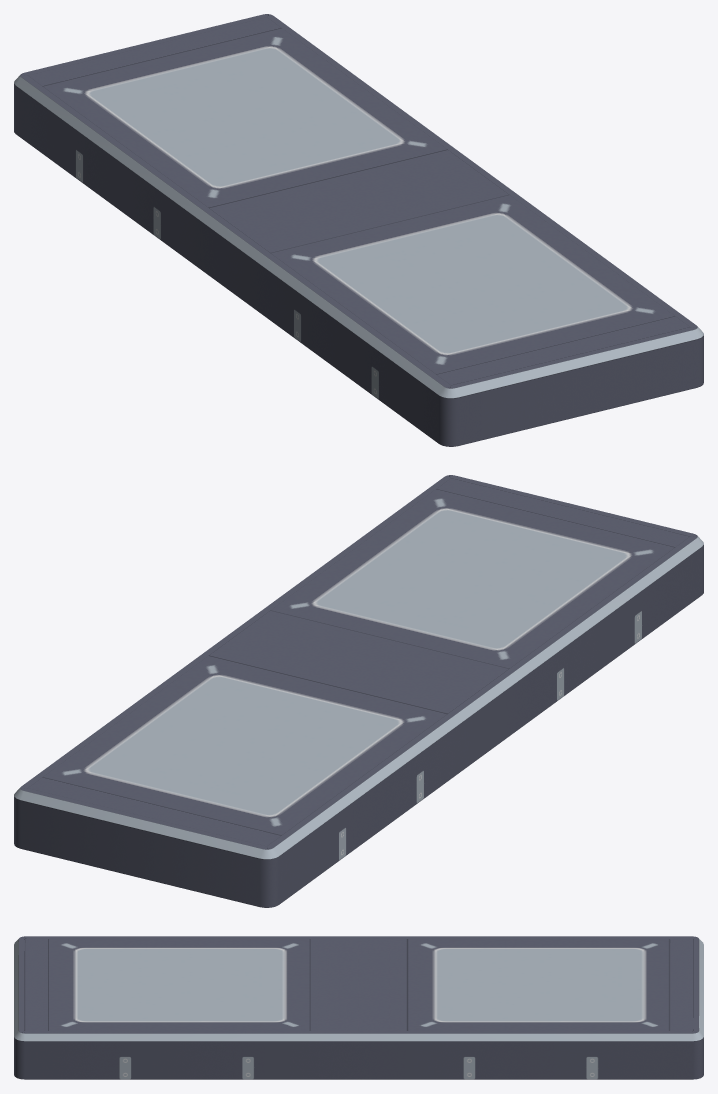
The model's file is Thing_13.FBX.
The picture shows the model from 3 angles, top to bottom: view 1: azimuth 30°, elevation 25°; view 2: azimuth 150°, elevation 25°; view 3: azimuth 270°, elevation 25°; orthographic projection. The views are drawn at different scales.
Visible parts, largest first — view 1: Thing_13; view 2: Thing_13; view 3: Thing_13.
Boxes of the visible parts, x1=… form: Thing_13: x1=14, y1=14, x2=703, y2=446; Thing_13: x1=14, y1=475, x2=703, y2=907; Thing_13: x1=14, y1=936, x2=703, y2=1079.
Size of the model in its own units: 1.24 by 0.25 by 3.56.
